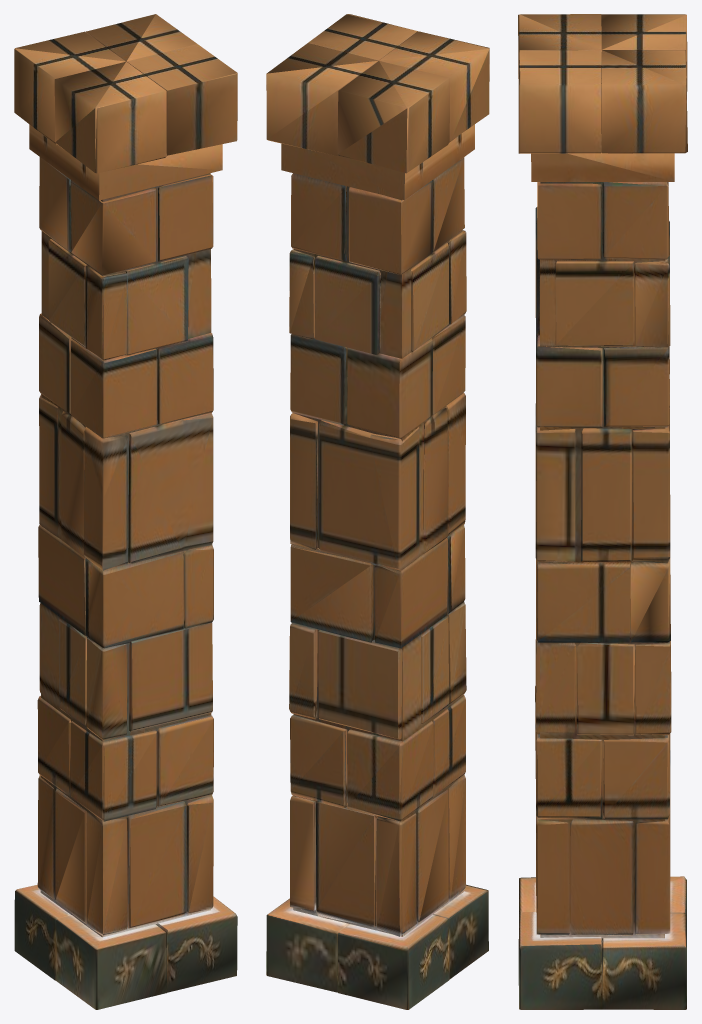
The model's file is pillar.glb.
The picture shows the model from 3 angles, left to right: view 1: azimuth 30°, elevation 25°; view 2: azimuth 150°, elevation 25°; view 3: azimuth 270°, elevation 25°; orthographic projection. The views are drawn at different scales.
Bounding box in the file's own units: 0.5 × 3 × 0.5.
Materials: 1 (1 with a texture image).
